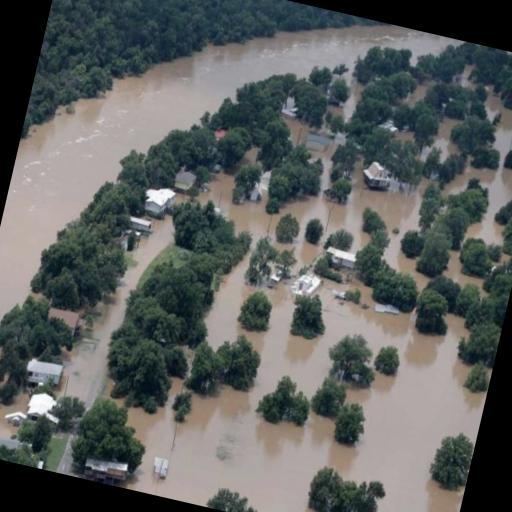flood: (0, 25, 462, 319), (0, 25, 457, 318), (120, 253, 488, 512), (196, 119, 430, 289), (64, 217, 172, 403), (443, 92, 512, 244), (329, 71, 362, 118), (445, 251, 482, 287), (434, 118, 458, 159), (409, 82, 431, 102), (397, 132, 412, 140)
house: (74, 450, 138, 490), (20, 351, 66, 393), (358, 158, 398, 196), (142, 182, 178, 220), (22, 390, 58, 424), (44, 305, 88, 332), (290, 271, 323, 302), (170, 164, 200, 198), (323, 244, 359, 271), (304, 132, 330, 153), (4, 410, 26, 430), (375, 120, 398, 136), (280, 108, 297, 120)
